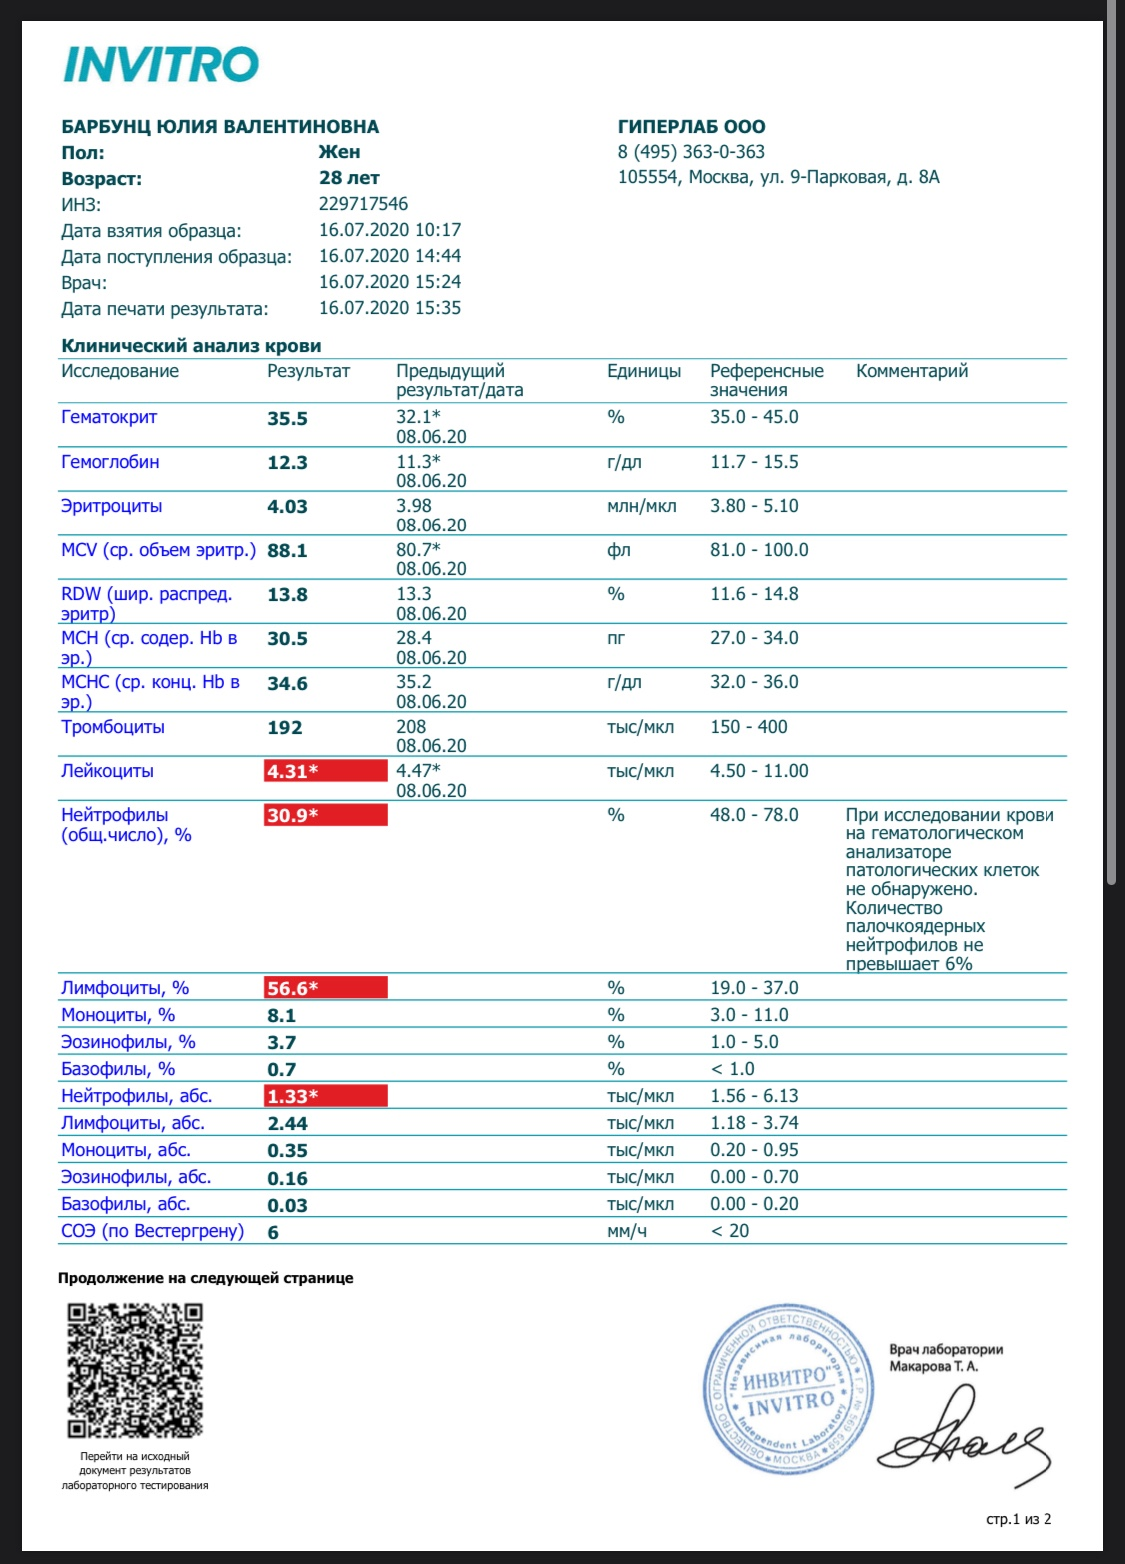column: (846, 358, 1053, 1243), (61, 358, 256, 1243), (395, 358, 524, 1243), (710, 358, 825, 1243), (266, 358, 351, 1243), (606, 358, 682, 1243)
